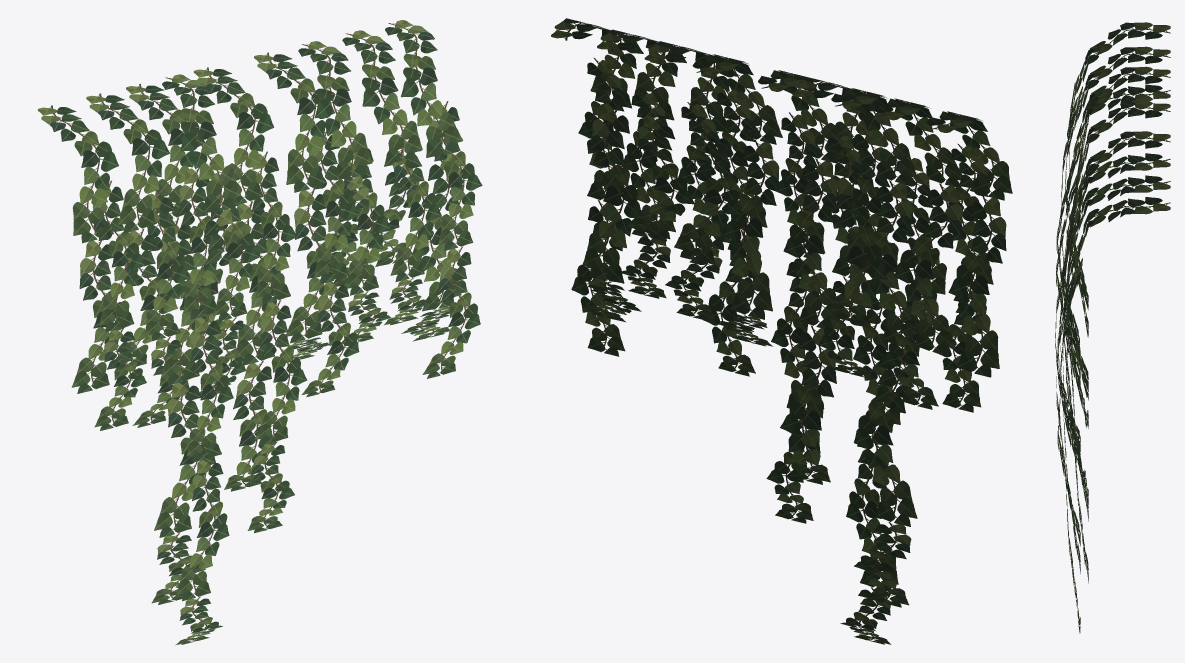
The model's file is SM_Vine_Hanging.fbx.
3 renders of one model, left to right at view 1: azimuth 30°, elevation 25°; view 2: azimuth 150°, elevation 25°; view 3: azimuth 270°, elevation 25°, orthographic. The views are drawn at different scales.
Parts seen in each view (by area): view 1: SM_Vine_Hanging_LOD0; view 2: SM_Vine_Hanging_LOD0; view 3: SM_Vine_Hanging_LOD0.
Part boxes in pixels (x1,y1,x2,y2): SM_Vine_Hanging_LOD0: [38, 20, 482, 645]; SM_Vine_Hanging_LOD0: [551, 18, 1012, 644]; SM_Vine_Hanging_LOD0: [1055, 22, 1170, 633].
Size of what is drawn, in the model's own units: 2.29 by 2.65 by 0.5067.
